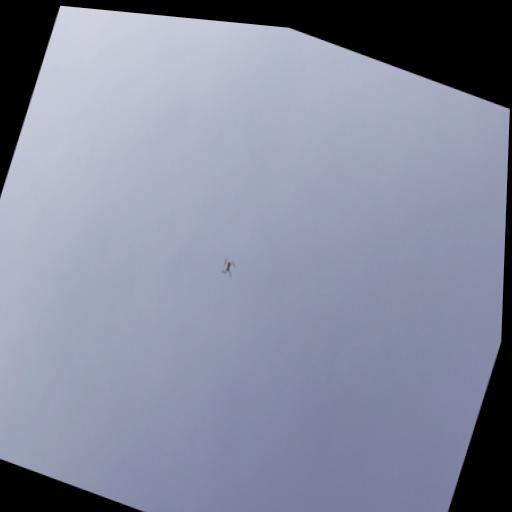drones: (218, 254, 238, 281)
